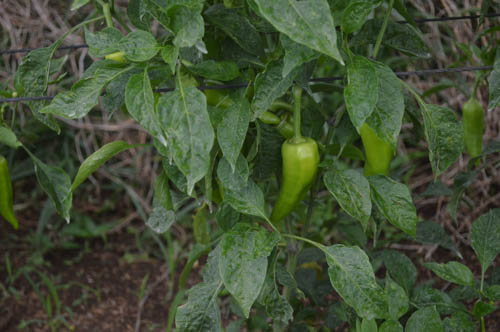ChiliPepper: (275, 139, 317, 224), (360, 113, 392, 181), (463, 101, 486, 162)
